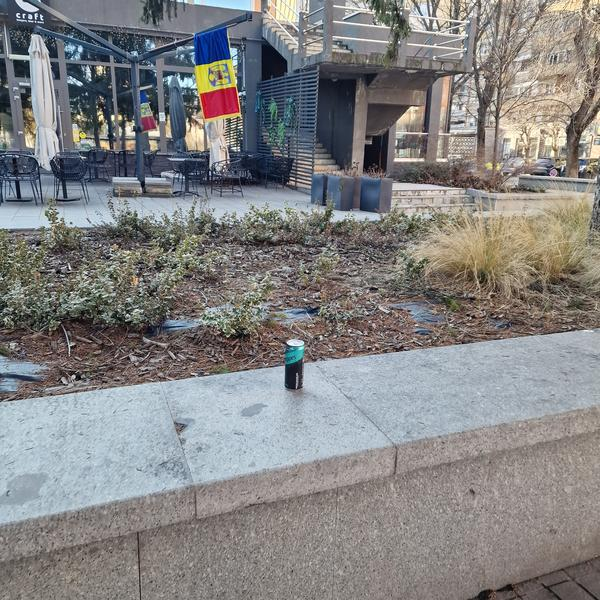can: (284, 338, 305, 391)
